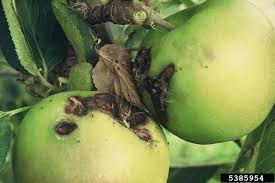damaged_apple: (134, 2, 262, 125), (18, 90, 171, 181)
